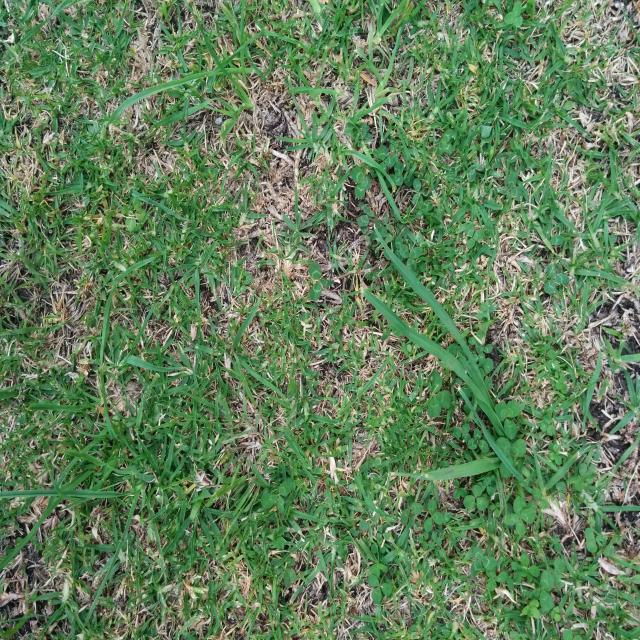Four Leaf Clover: (504, 496, 536, 535)
